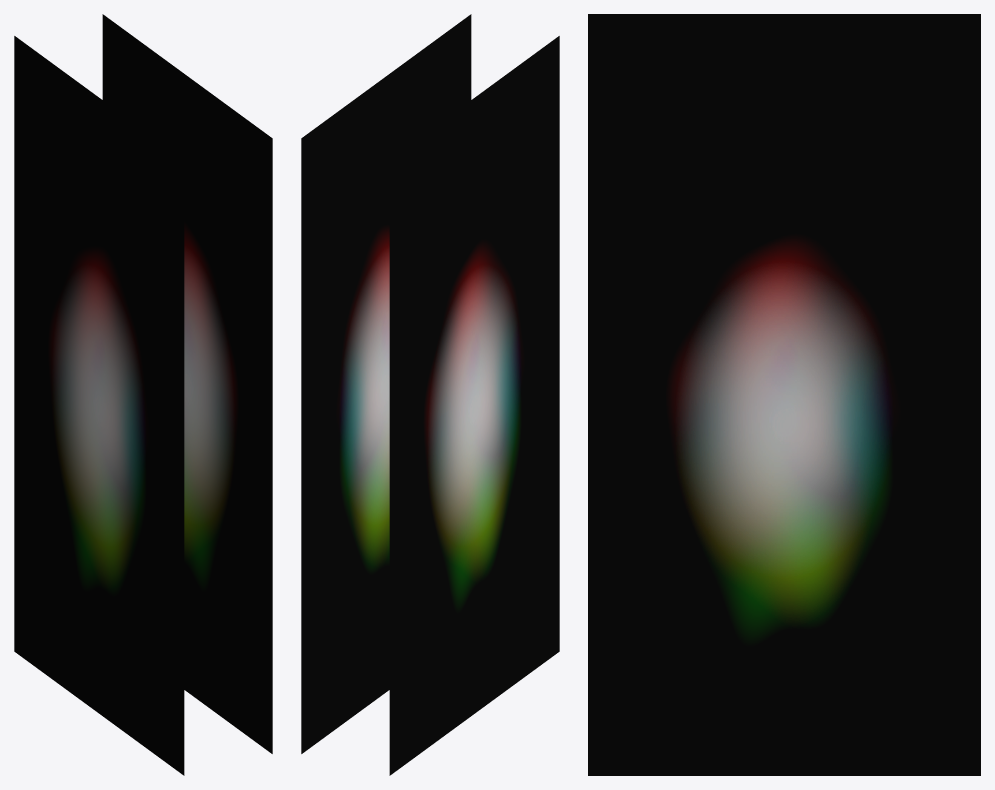
The model's file is SM_ImperfectFormFire_DoublePlane_Tall.glb.
The picture shows the model from 3 angles, left to right: view 1: azimuth 30°, elevation 25°; view 2: azimuth 150°, elevation 25°; view 3: azimuth 270°, elevation 25°; orthographic projection. The views are drawn at different scales.
Parts seen in each view (by area): view 1: SM_ImperfectFormFire_DoublePlane_Tall.001; view 2: SM_ImperfectFormFire_DoublePlane_Tall.001; view 3: SM_ImperfectFormFire_DoublePlane_Tall.001.
Boxes of the visible parts, x1,y1,x2,y2 form: SM_ImperfectFormFire_DoublePlane_Tall.001: (14, 14, 272, 775); SM_ImperfectFormFire_DoublePlane_Tall.001: (301, 14, 559, 775); SM_ImperfectFormFire_DoublePlane_Tall.001: (588, 14, 980, 775).
Size of the model in its own units: 60 by 400 by 200.
1 material, 1 textured.
